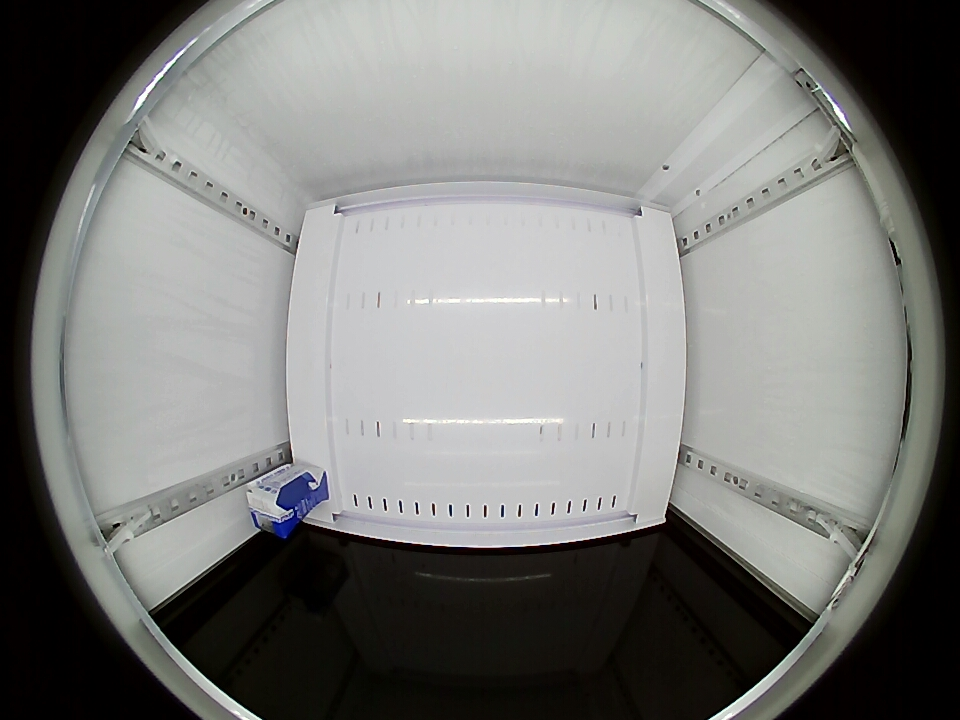anmuxi: (246, 482, 302, 538)
